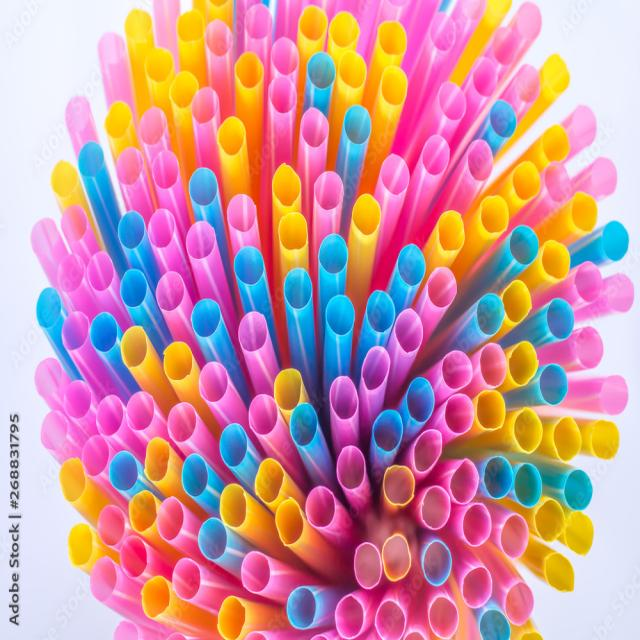plastic: (276, 258, 317, 365)
